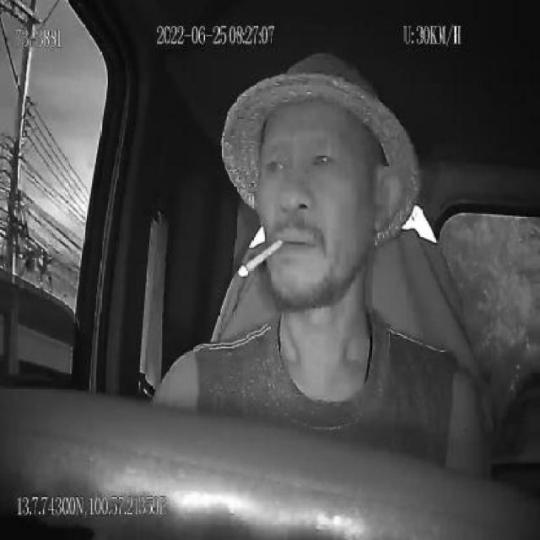smoking: (236, 238, 284, 280)
